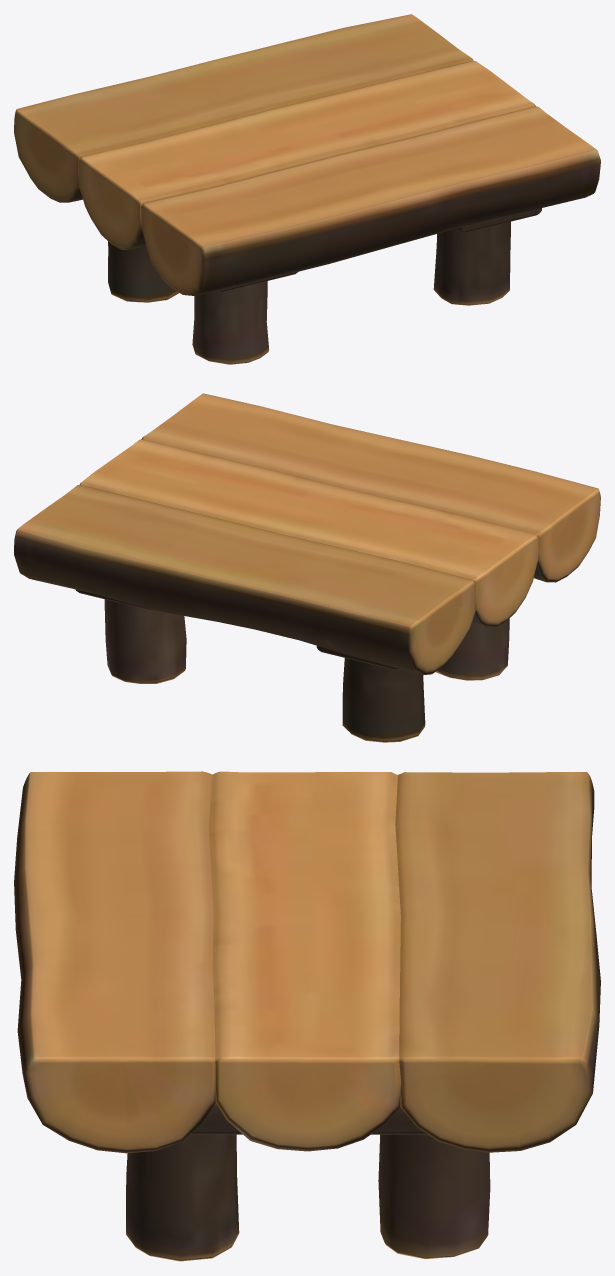
3 views of the same model, one above another, from view 1: azimuth 30°, elevation 25°; view 2: azimuth 150°, elevation 25°; view 3: azimuth 270°, elevation 25° (orthographic). The views are drawn at different scales.
Size of the model in its own units: 19.25 by 7.27 by 16.45.
Materials: 1 (1 with a texture image).
